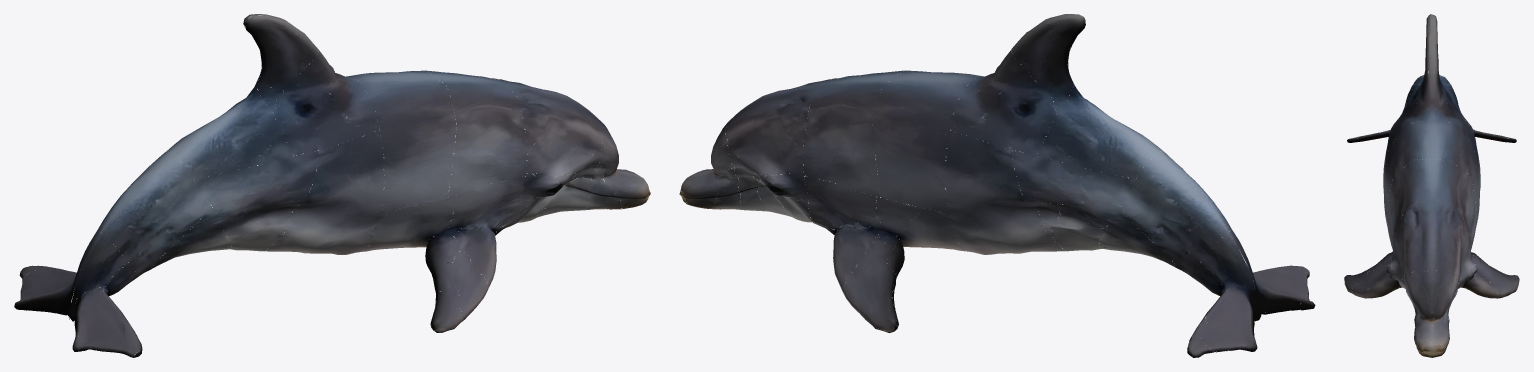
File: dolphin.glb
3 renders of one model, left to right at view 1: azimuth 30°, elevation 25°; view 2: azimuth 150°, elevation 25°; view 3: azimuth 270°, elevation 25°, orthographic. The views are drawn at different scales.
Parts seen in each view (by area): view 1: tripo_node_c3bc267f-5369-486c-937d-ccab08353567; view 2: tripo_node_c3bc267f-5369-486c-937d-ccab08353567; view 3: tripo_node_c3bc267f-5369-486c-937d-ccab08353567.
Boxes of the visible parts, x1,y1,x2,y2 form: tripo_node_c3bc267f-5369-486c-937d-ccab08353567: (14,14,650,357); tripo_node_c3bc267f-5369-486c-937d-ccab08353567: (679,14,1315,357); tripo_node_c3bc267f-5369-486c-937d-ccab08353567: (1344,14,1519,357).
Bounding box in the file's own units: 1 × 0.49 × 0.3442.
1 material, 1 textured.
